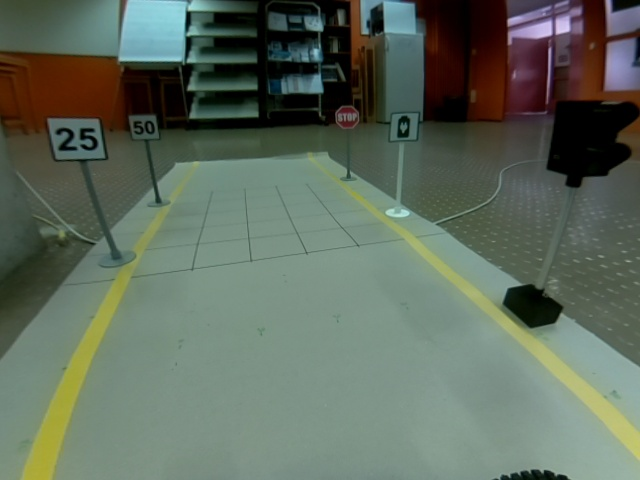battery: (389, 111, 420, 142)
speed25: (45, 116, 109, 161)
speed50: (128, 114, 161, 141)
stop: (335, 105, 359, 129)
trafficLightOff: (546, 99, 640, 177)
